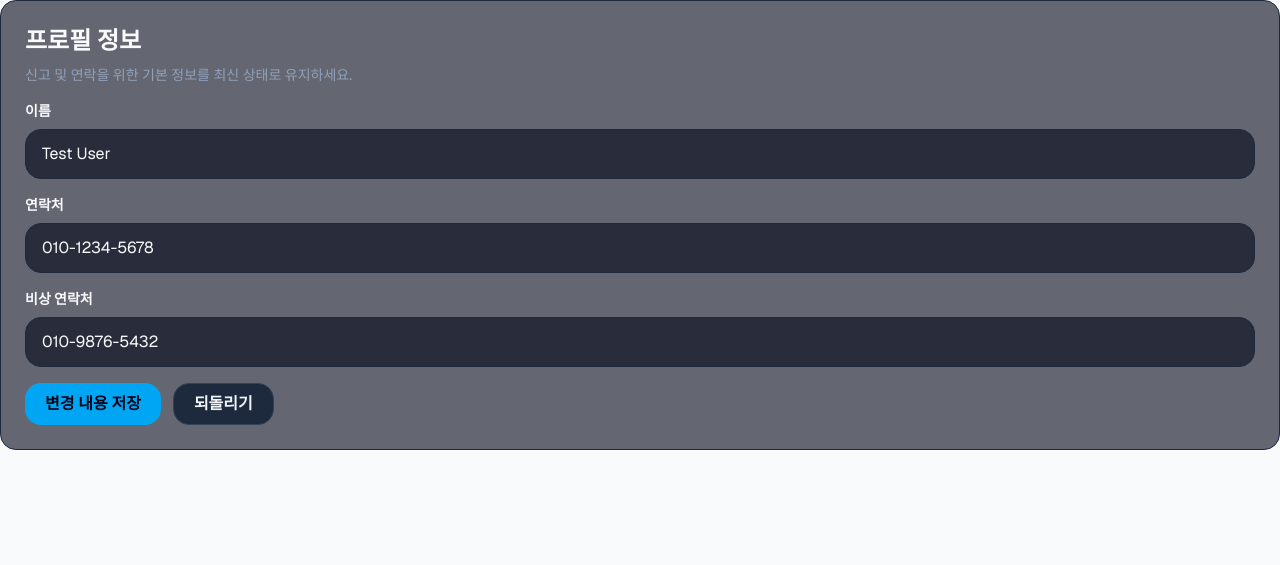
Test: ProfileForm › submits form with valid data
This screenshot has width=1280, height=565.
Simulate user input to make form dirty
Replace the text in the field labelled "이름" with "Updated Name" at (640,154), box [25, 129, 1255, 179]
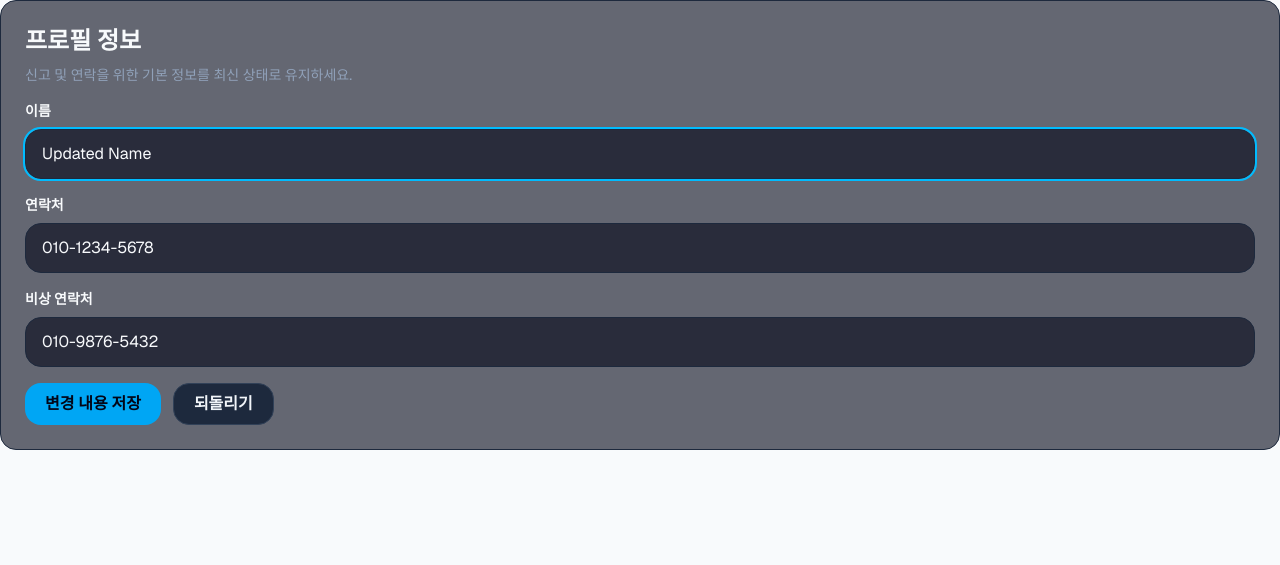
Click the button "변경 내용 저장" at (93,404), box [25, 383, 161, 425]
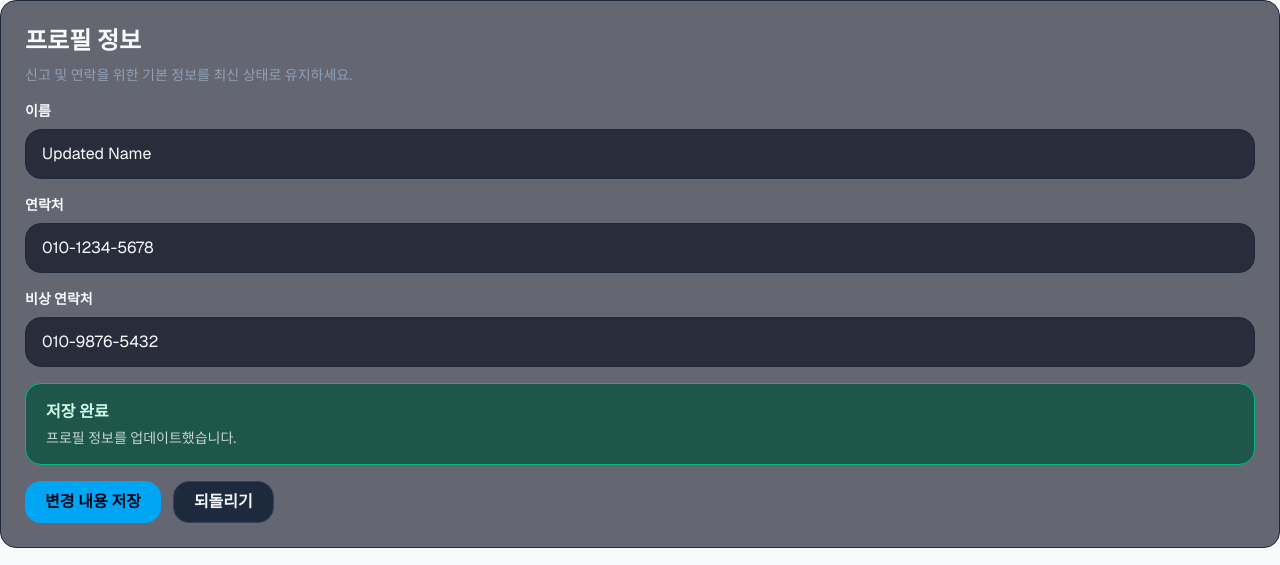
Expected: the text "저장 완료" is shown, [46, 401, 109, 422]
